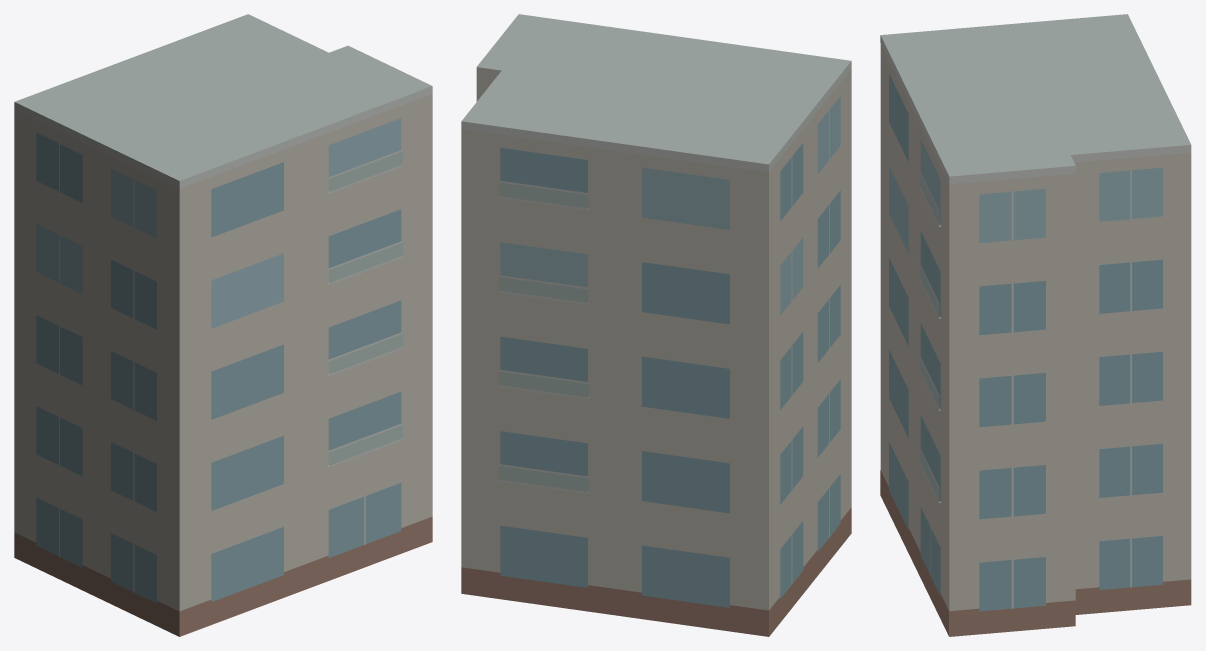
File: survey-upis-33012216.glb
The picture shows the model from 3 angles, left to right: view 1: azimuth 30°, elevation 25°; view 2: azimuth 150°, elevation 25°; view 3: azimuth 270°, elevation 25°; orthographic projection. The views are drawn at different scales.
Parts seen in each view (by area): view 1: survey-upis-33012216.tmp; view 2: survey-upis-33012216.tmp; view 3: survey-upis-33012216.tmp.
Boxes of the visible parts, left/top/right/bottom form: survey-upis-33012216.tmp: left=14, top=14, right=432, bottom=636; survey-upis-33012216.tmp: left=461, top=14, right=851, bottom=636; survey-upis-33012216.tmp: left=880, top=14, right=1191, bottom=636.
Bounding box in the file's own units: 10.91 × 14.4 × 8.82.
